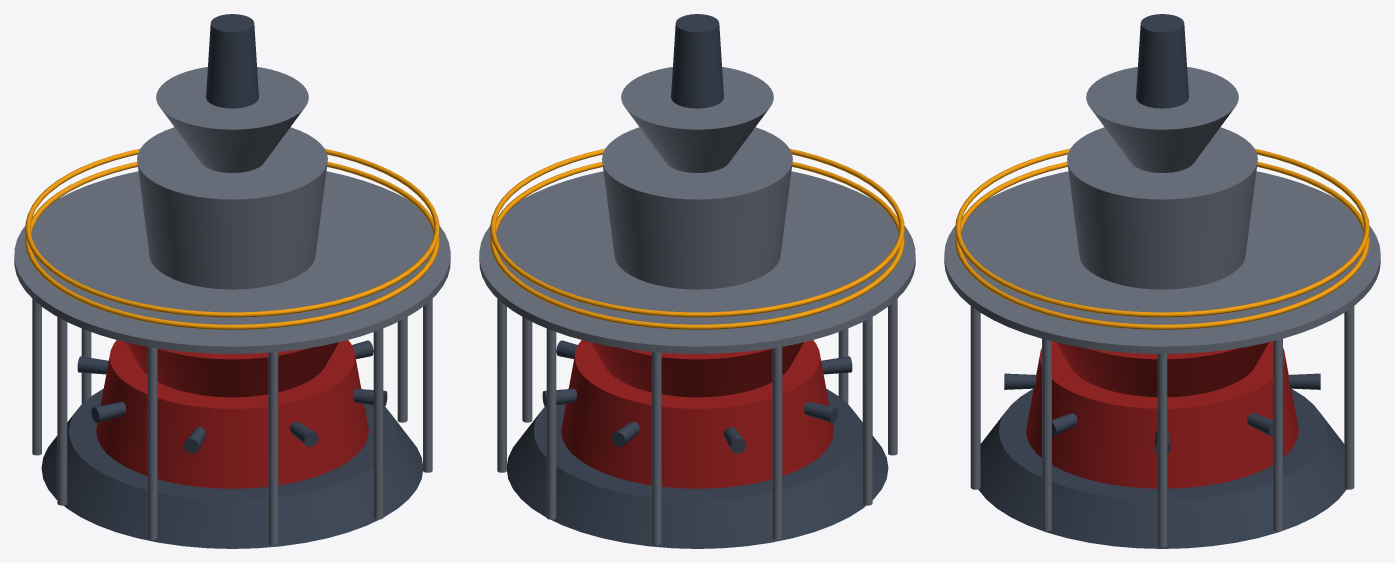
The model's file is blast_furnace.glb.
3 views of the same model, side by side, from view 1: azimuth 30°, elevation 25°; view 2: azimuth 150°, elevation 25°; view 3: azimuth 270°, elevation 25° (orthographic).
Bounding box in the file's own units: 16 × 18 × 16.
